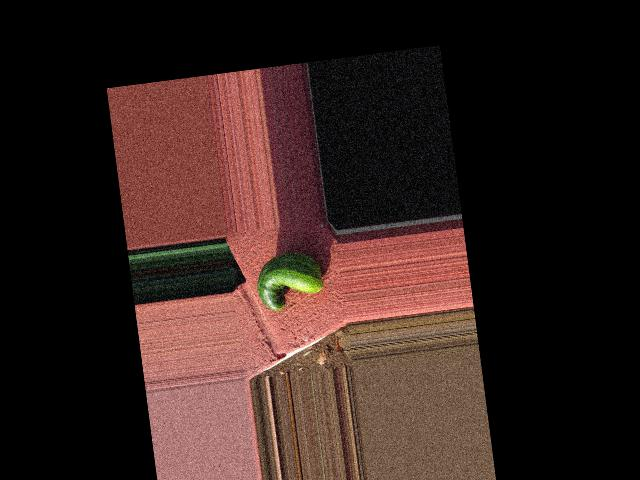cucumber: (253, 249, 326, 313)
